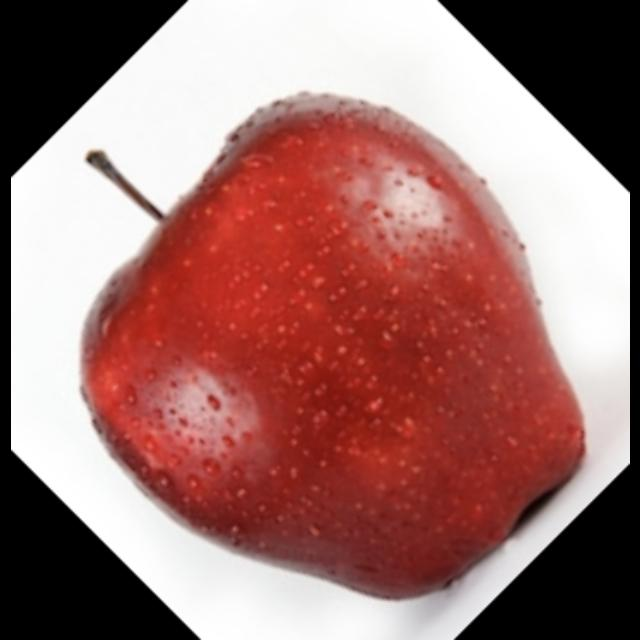Apel Segar: (67, 78, 595, 614)
